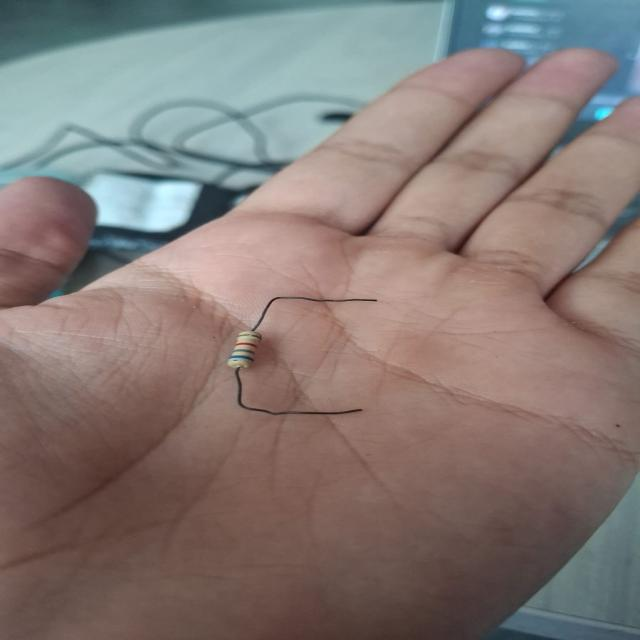Resistencia: (227, 296, 377, 416)
